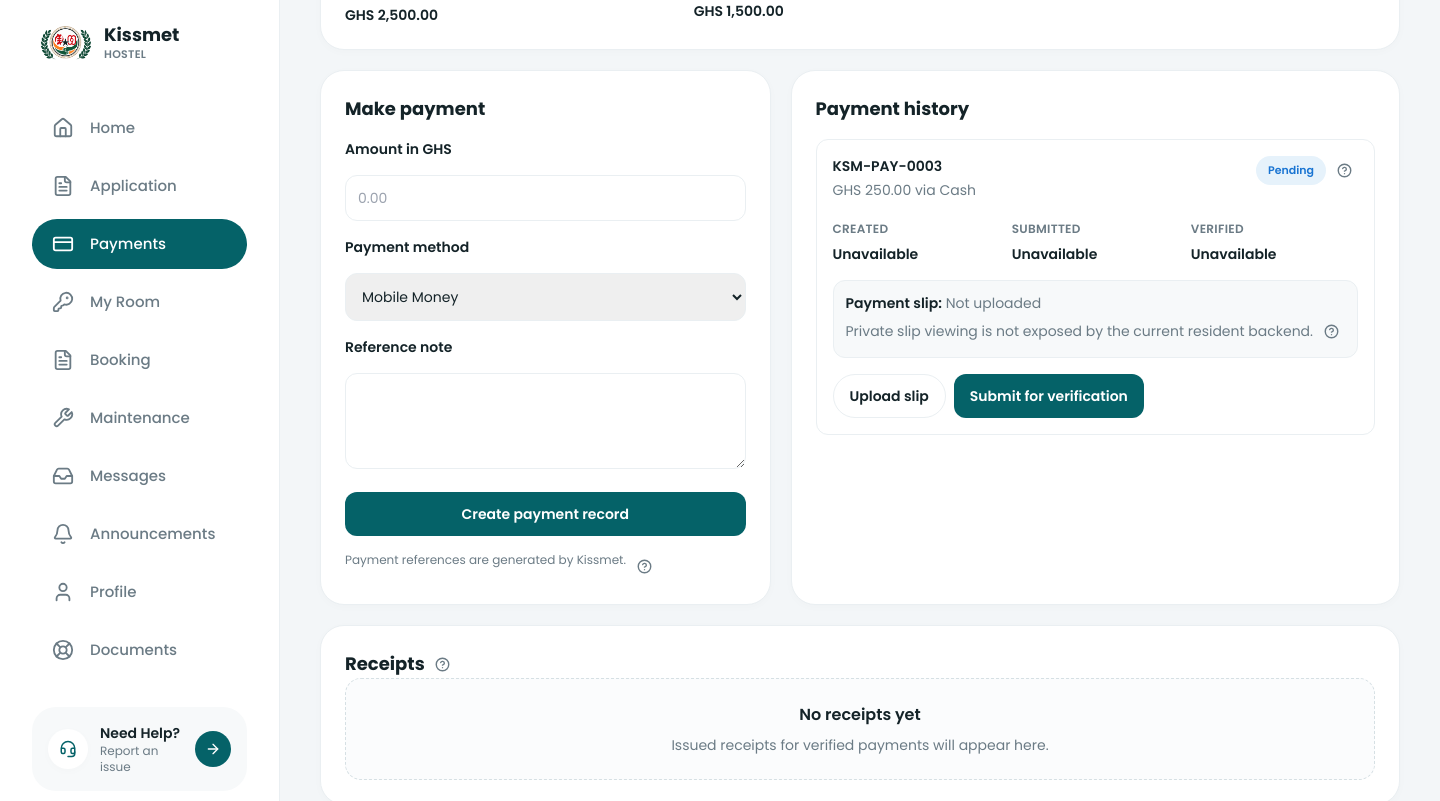
Test case: resident payments › submits pending payment after confirmation without showing verified
(page scrolled)
Step 1. Click the button "Submit for verification" → click(1049, 396), box [954, 374, 1144, 418]
(page scrolled)
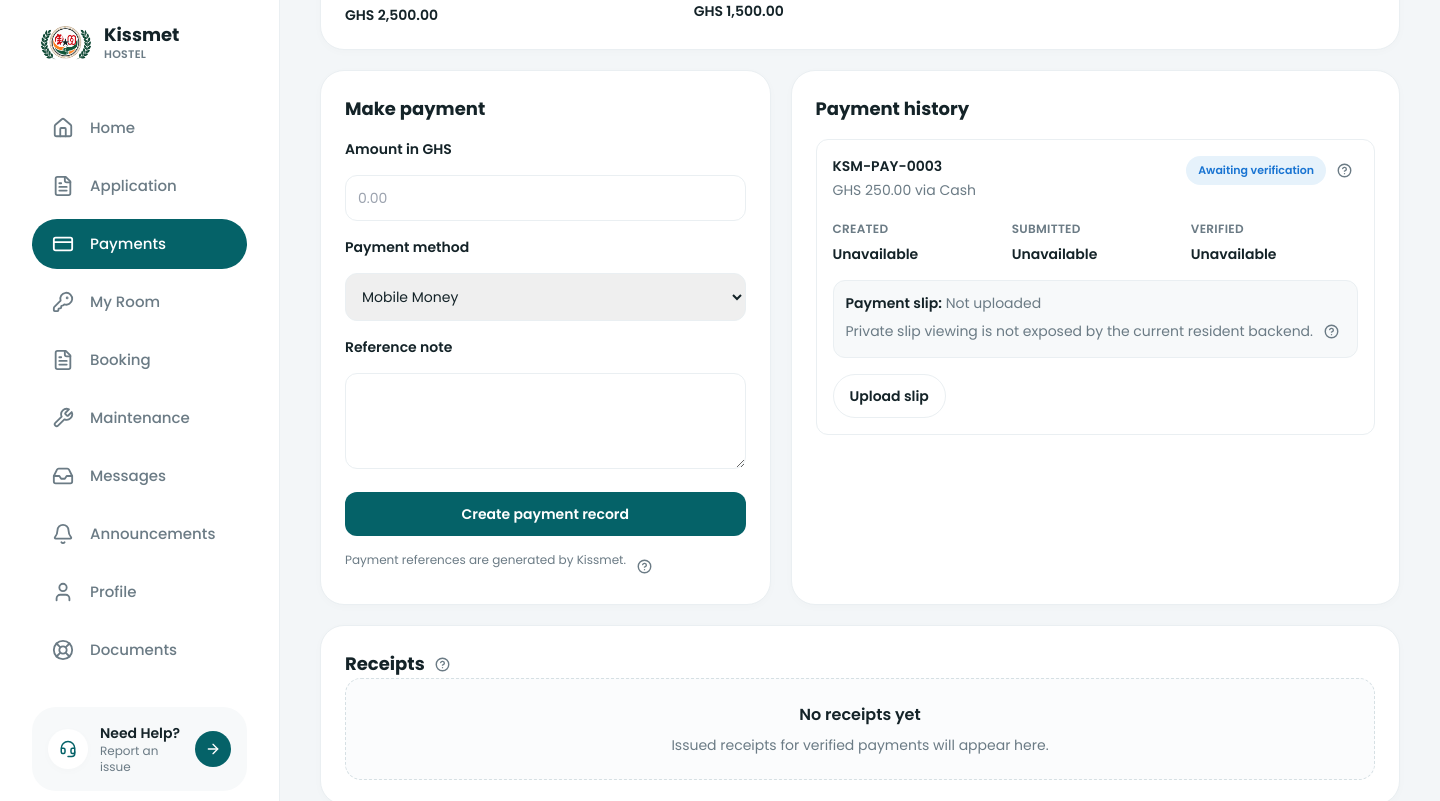
Expected: the text "Awaiting verification" is shown, [1186, 156, 1326, 184]
